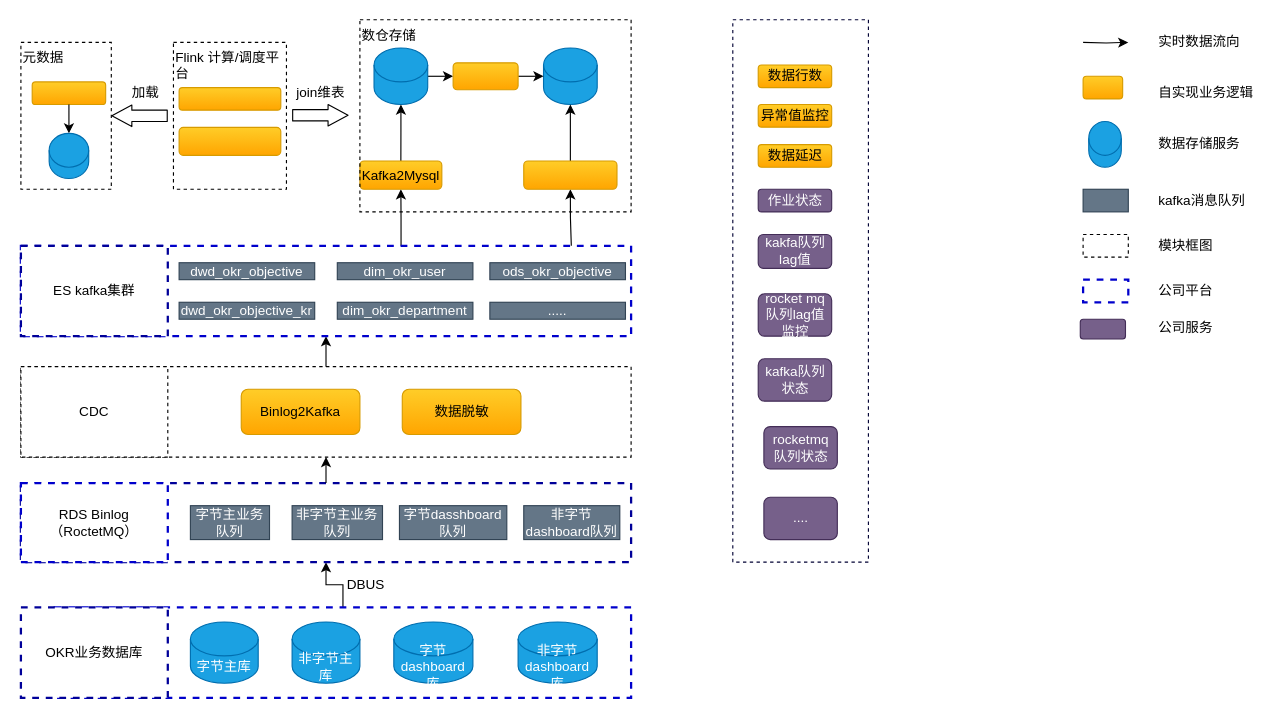
Image size: 1288x719. Some labels were removed from this diagram. The shapes that lost their labels are listed below. From the top down, each one's box as (x1, y1, x2, y2) in pixels, then its label:
(31, 81, 106, 105): 元数据写入
(373, 47, 428, 105): Mysql
(452, 62, 518, 90): Mysql2CH
(542, 47, 597, 105): CH
(178, 86, 281, 110): JAVA Flink 作业
(48, 132, 89, 179): DB
(178, 126, 281, 155): Flink SQL 作业
(523, 160, 617, 189): Kafka2CH
(732, 19, 868, 562): 监控报警
